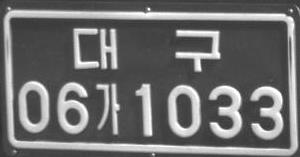0: (166, 83, 200, 138), (18, 79, 50, 133)
1: (131, 82, 161, 137)
3: (208, 83, 243, 140), (249, 84, 283, 140)
6: (56, 81, 89, 136)
가: (94, 84, 123, 134)
대구_D: (72, 27, 222, 72)
